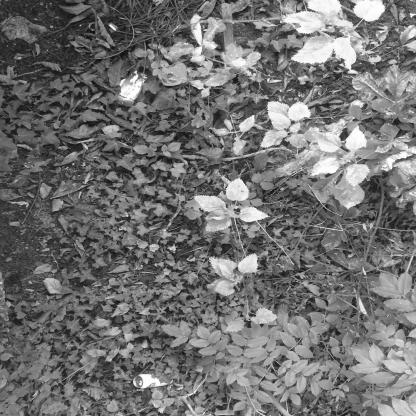metal: (133, 367, 174, 392)
plastic: (113, 68, 151, 108)
